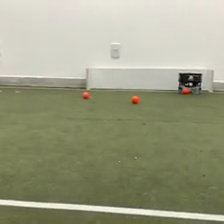ball: (131, 94, 139, 104), (82, 90, 90, 99), (182, 86, 190, 94)
goal: (84, 64, 216, 94)
robot: (176, 71, 203, 96)
